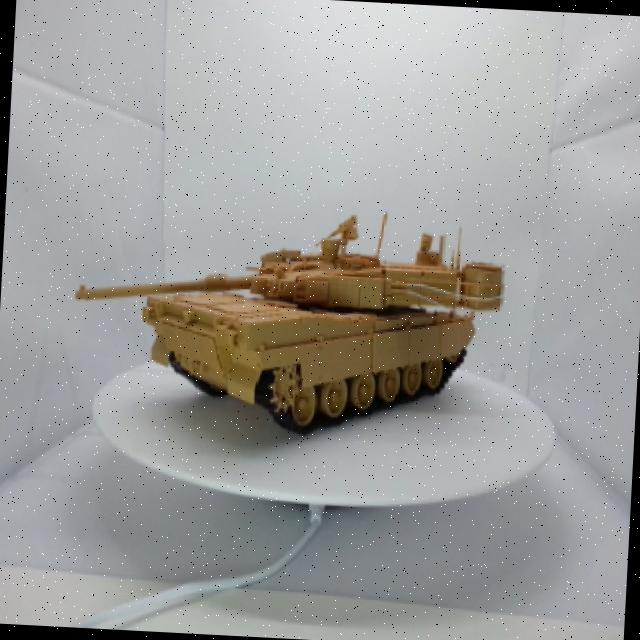korea tank: (63, 174, 514, 449)
